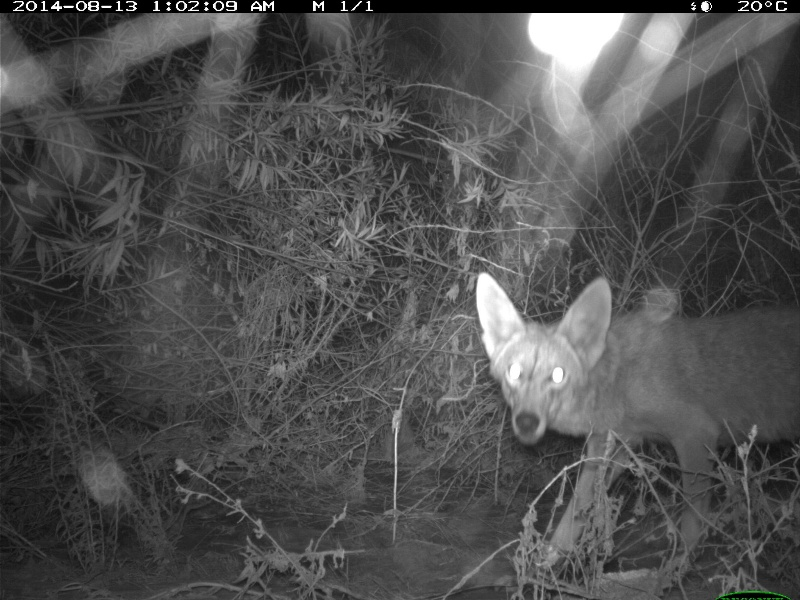coyote: (467, 263, 800, 577)
